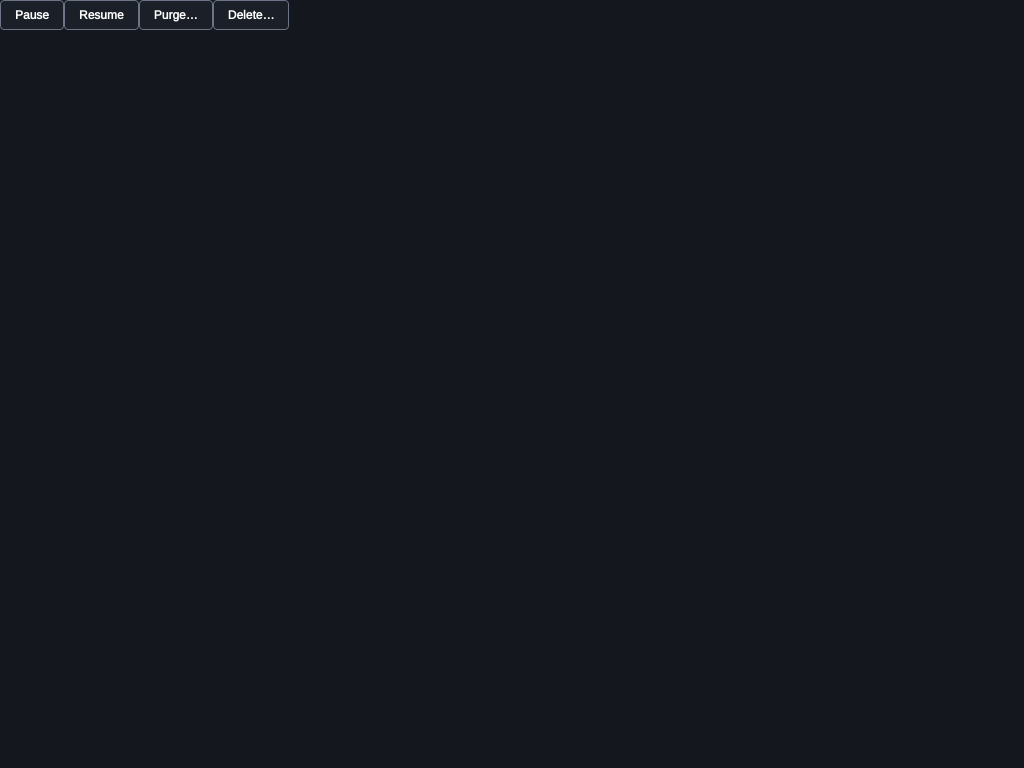
Scenario: BulkPreviewDialog › states why a preview was refused (422) and what to change
Click the button "Delete…": coordinates (251, 15) [213, 0, 290, 30]
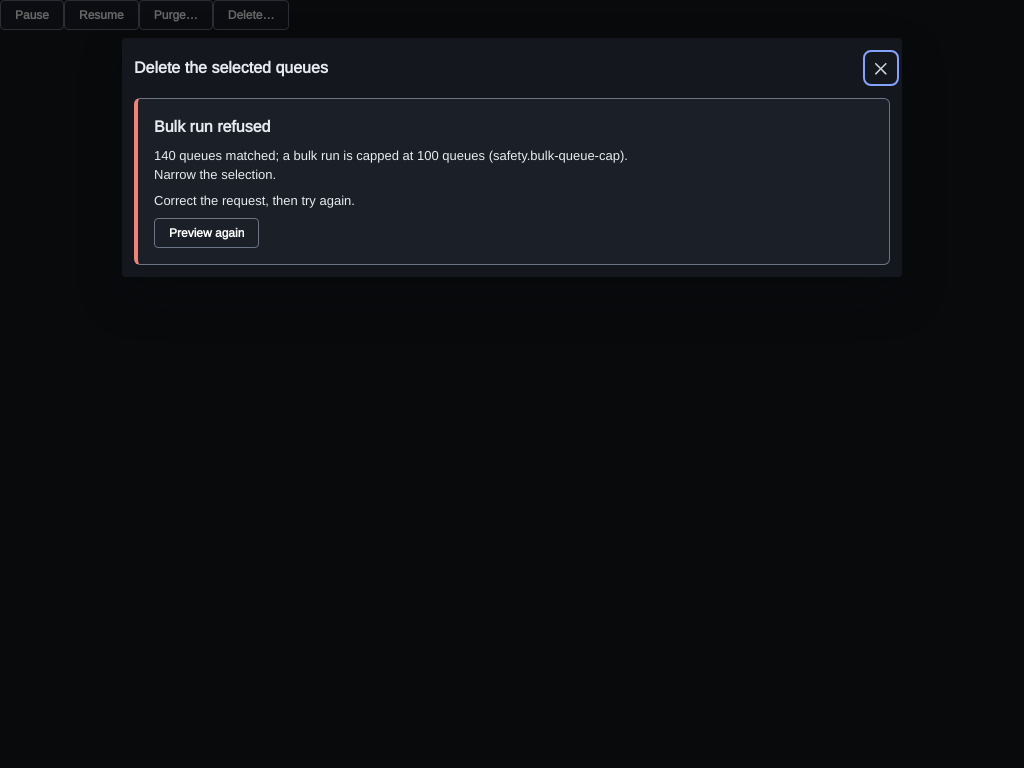
Expected: the message shows "Bulk run refused", [154, 116, 270, 137]
Expected: the message shows "140 queues matched; a bulk run is capped at 100 queues", [154, 147, 628, 183]
Expected: the message shows "Narrow the selection.", [154, 147, 628, 183]
